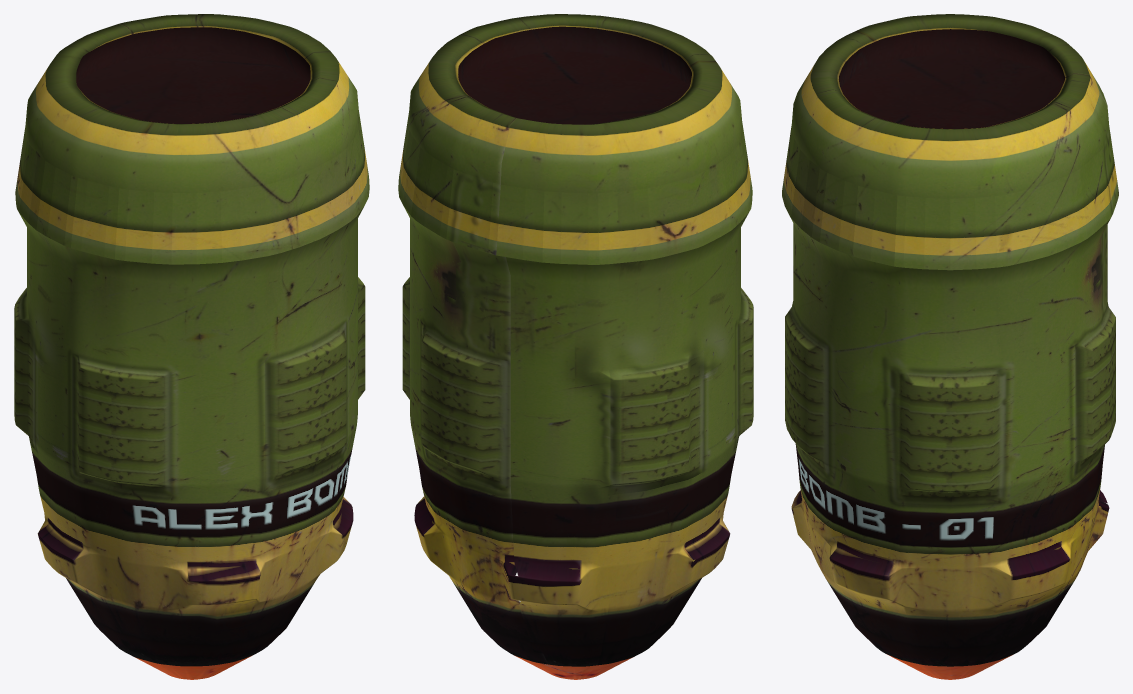
The model's file is Alex_bomb.fbx.
3 views of the same model, side by side, from view 1: azimuth 30°, elevation 25°; view 2: azimuth 150°, elevation 25°; view 3: azimuth 270°, elevation 25° (orthographic).
Parts seen in each view (by area): view 1: pCylinder2; view 2: pCylinder2; view 3: pCylinder2.
Boxes of the visible parts, bbox=[...] form: pCylinder2: bbox=[14, 14, 369, 679]; pCylinder2: bbox=[398, 14, 753, 679]; pCylinder2: bbox=[782, 14, 1118, 679].
Bounding box in the file's own units: 3.19 × 5.89 × 2.97.
1 material, 1 textured.
